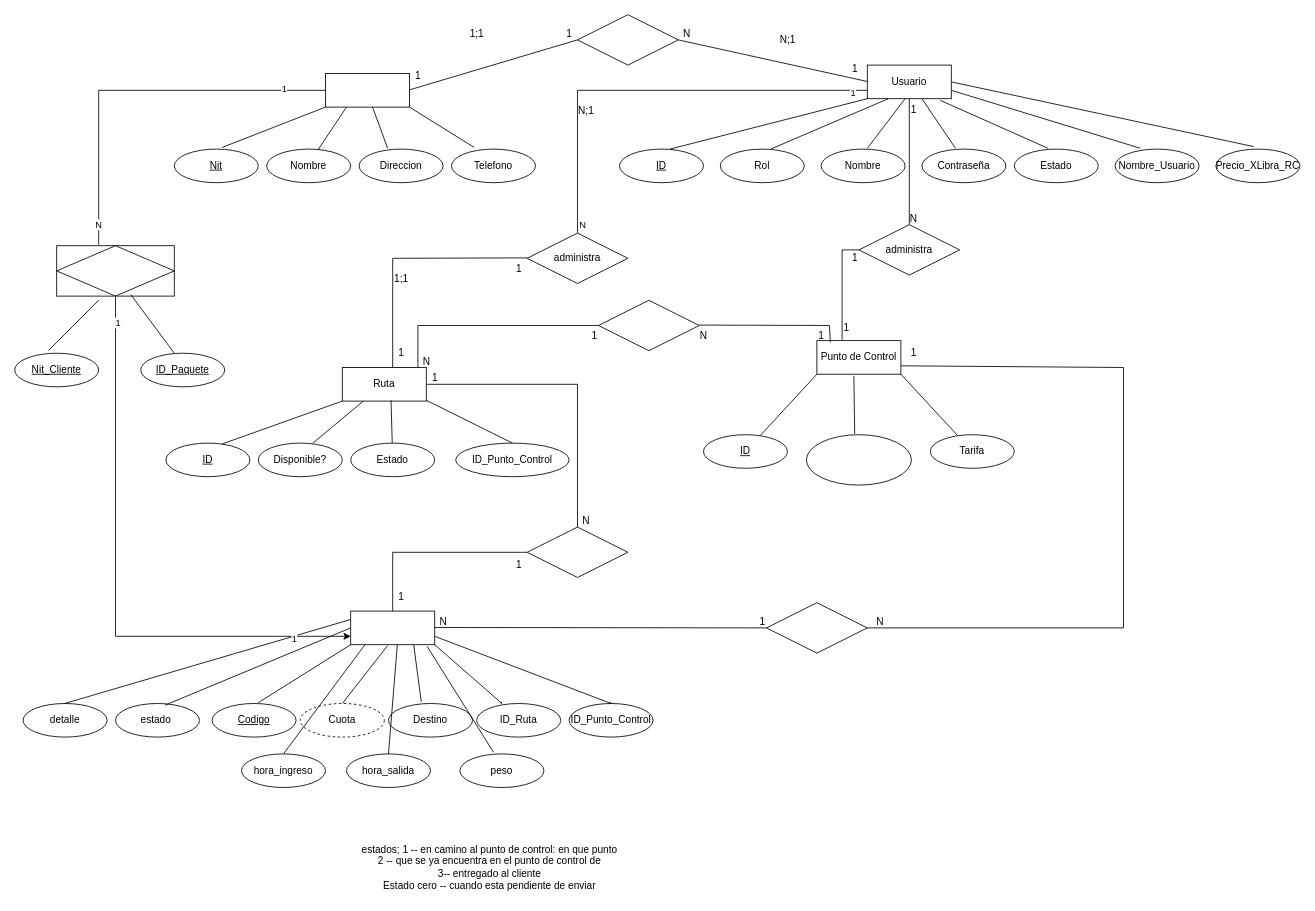
Some shapes in this 1315 by 911 pixel diagram are drawn without their labels. The shapes that lost their labels are listed below. From the top down, each one's centre as x and y in pixels, then its label:
At point (627, 39): "atiende".
At point (367, 90): "Cliente".
At point (115, 270): "Cliente_Paquete".
At point (648, 325): "asigna".
At point (858, 459): "id_usuario_operador".
At point (577, 552): "enviado".
At point (392, 627): "Paquete".
At point (816, 627): "recibe".
